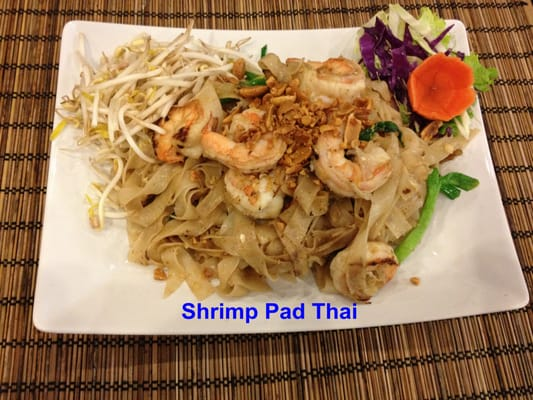curry: (15, 0, 528, 333)
